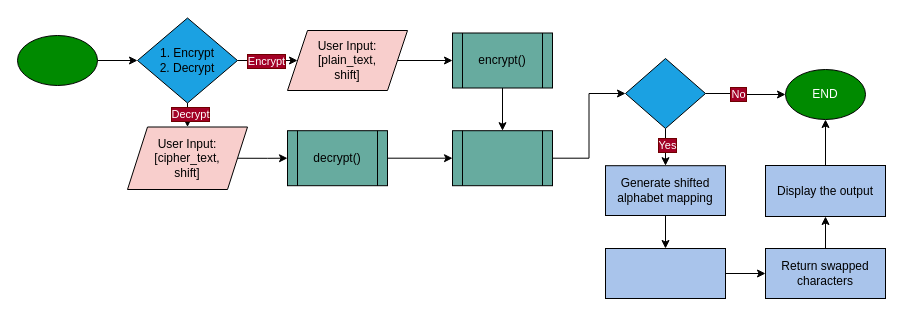
Image size: 903x316. Some labels were removed from this diagram. The shapes that lost their labels are listed below. From the top down, each one's centre as x and y in pixels, then its label:
pixel 57 60: START
pixel 665 93: Is Input Valid?
pixel 502 158: caesarx()
pixel 665 273: Map to a single translation table
